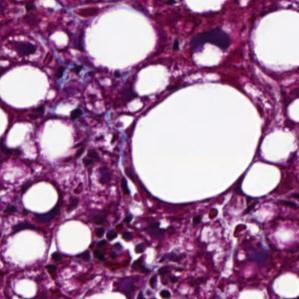inflammation: (89, 220, 156, 276), (126, 273, 180, 299), (0, 32, 45, 60)
